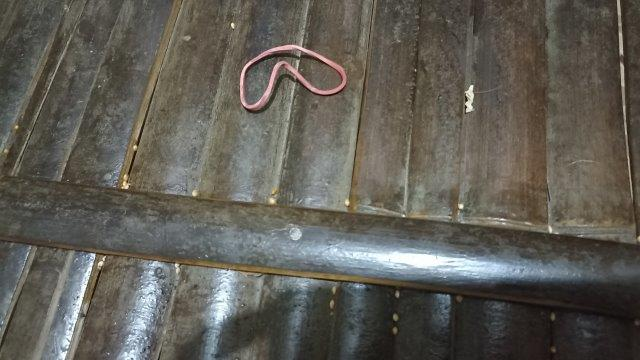karet: (239, 45, 347, 110)
